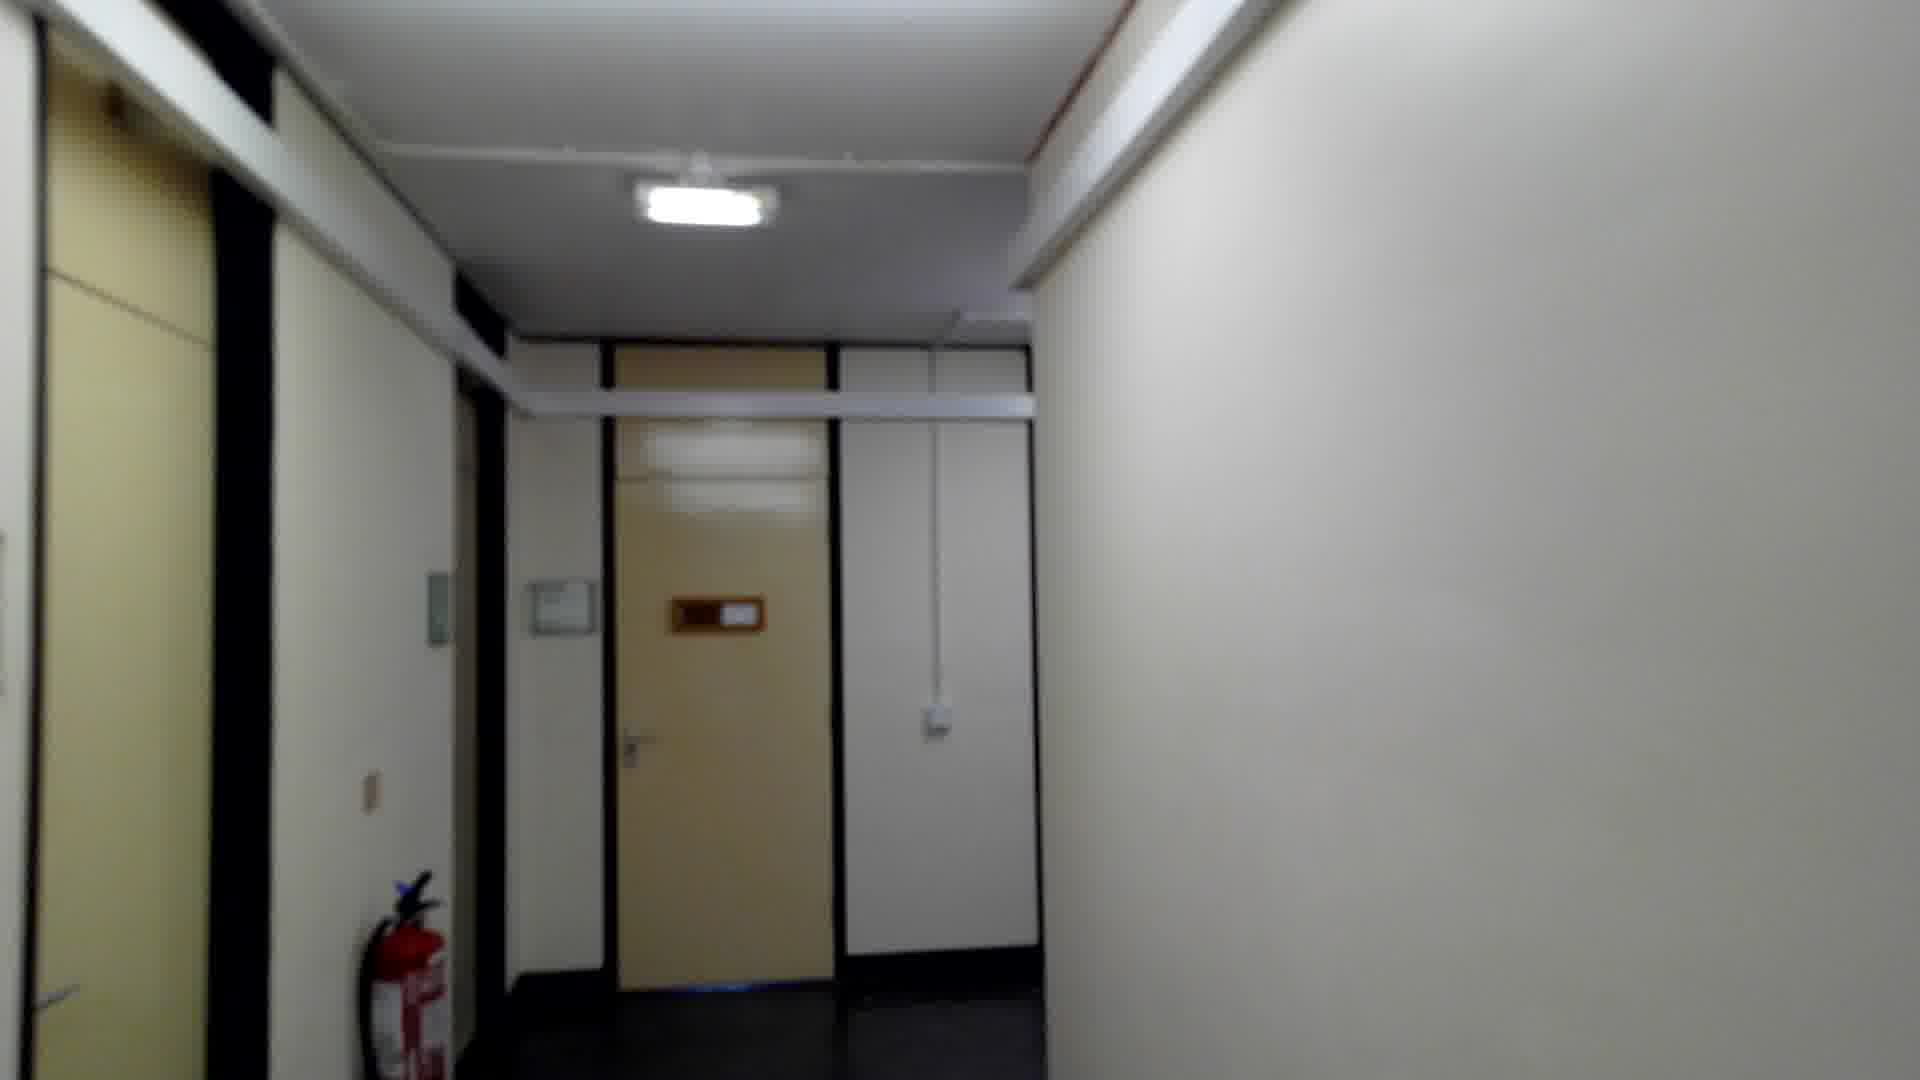Door: (7, 44, 314, 1080), (589, 320, 868, 1006)
